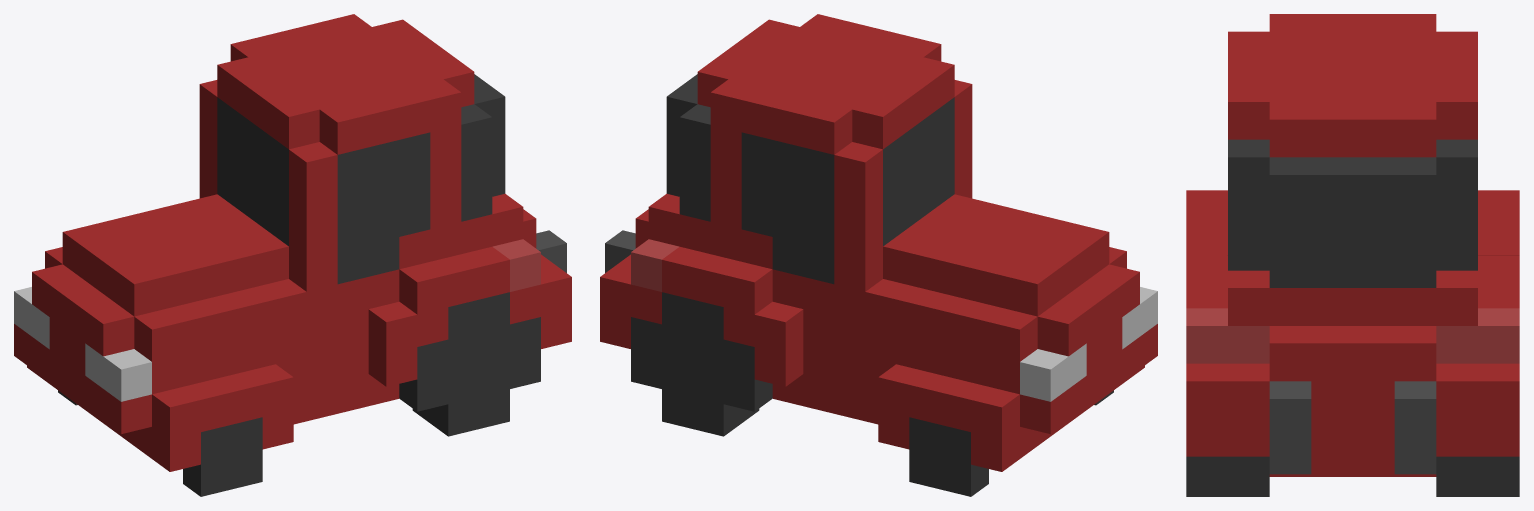
File: tractor-red.gltf
3 renders of one model, left to right at view 1: azimuth 30°, elevation 25°; view 2: azimuth 150°, elevation 25°; view 3: azimuth 270°, elevation 25°, orthographic. The views are drawn at different scales.
Visible parts, largest first — view 1: model, wheels; view 2: model, wheels; view 3: model, wheels.
Boxes of the visible parts, x1,y1,x2,y2 form: model: [14, 14, 571, 471]; wheels: [58, 292, 540, 496]; model: [600, 14, 1157, 471]; wheels: [631, 292, 1113, 496]; model: [1186, 14, 1519, 476]; wheels: [1186, 456, 1519, 496].
Bounding box in the file's own units: 1.5 × 1 × 0.8.
Materials: 2 (2 with a texture image).
